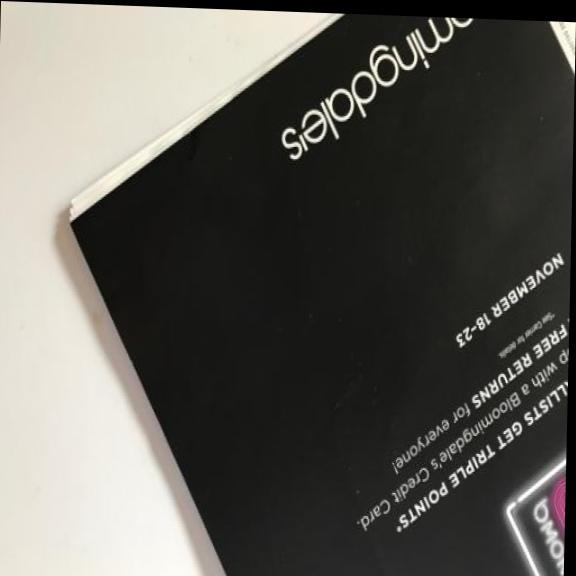Kertas: (56, 3, 576, 576)
